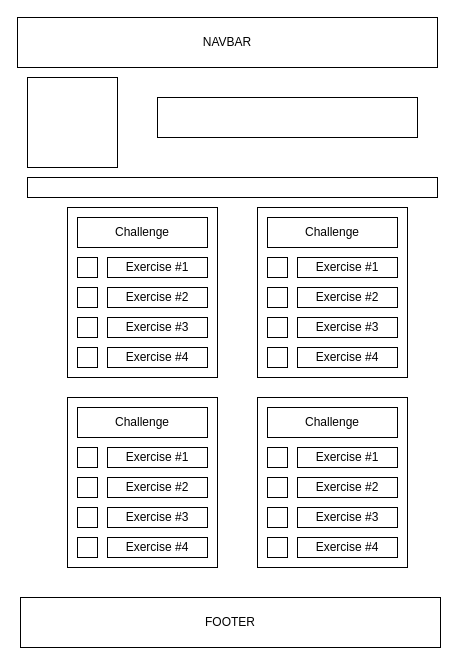
The diagram is 458 pixels wide and 665 high, and some of its shapes have lost their labels. Here are the shapes that lost their labels. From the top down, the centre of each, then its label:
At (72,122): "PATH IMAGE".
At (287,117): "PATH NAME".
